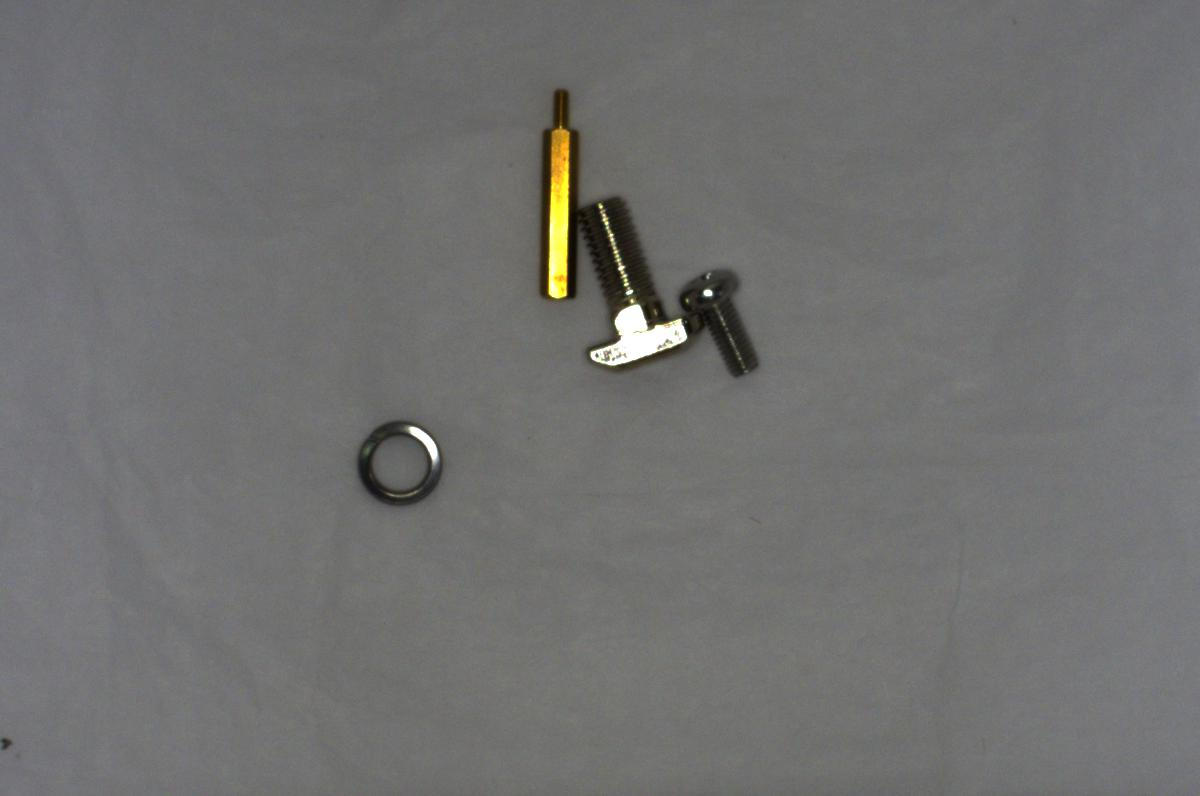Hexagon pillar: (533, 80, 575, 305)
Round head screw: (673, 260, 765, 387)
Spring washer: (346, 410, 459, 509)
T-shaped screw: (558, 194, 699, 376)
